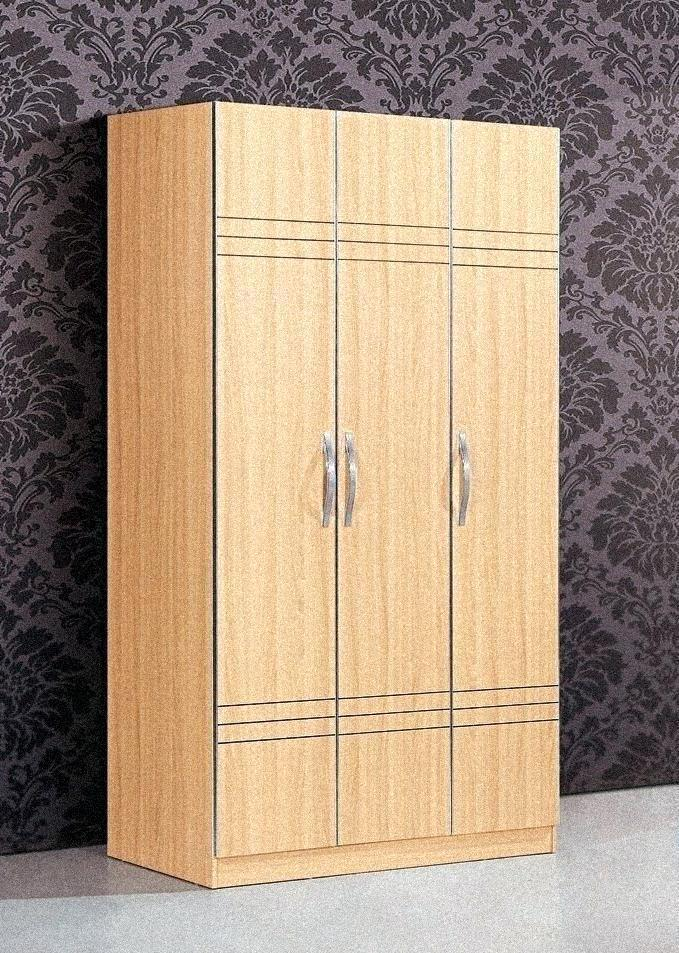Armario: (95, 100, 571, 899)
